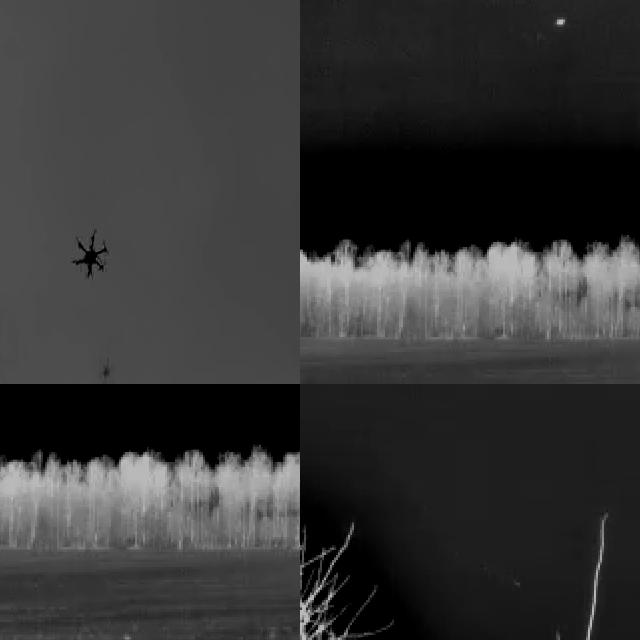0: (505, 572, 537, 602)
1: (550, 10, 576, 36)
drone: (70, 221, 110, 284)
